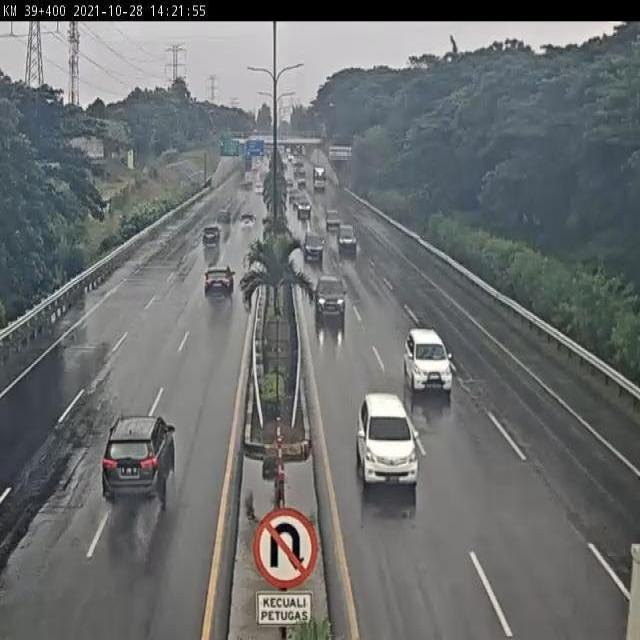car: (100, 416, 177, 505), (352, 393, 420, 488), (404, 328, 454, 391), (312, 272, 348, 320), (203, 265, 235, 299), (303, 229, 324, 264), (338, 224, 358, 253)
